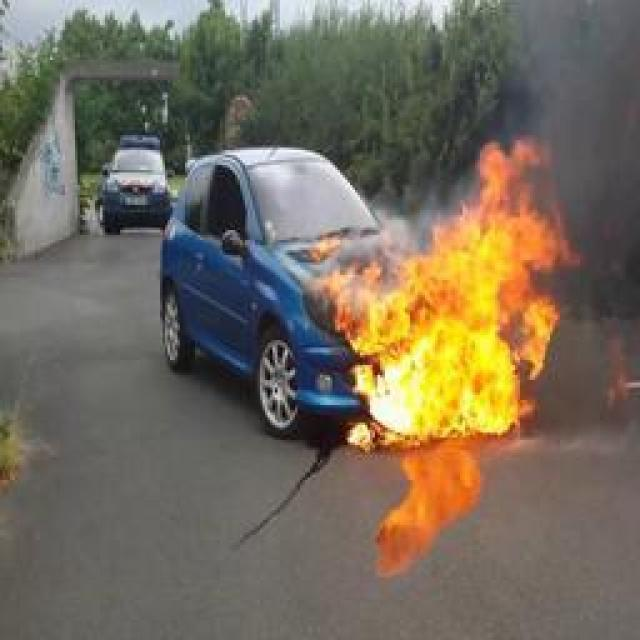Fire: (315, 135, 580, 450)
